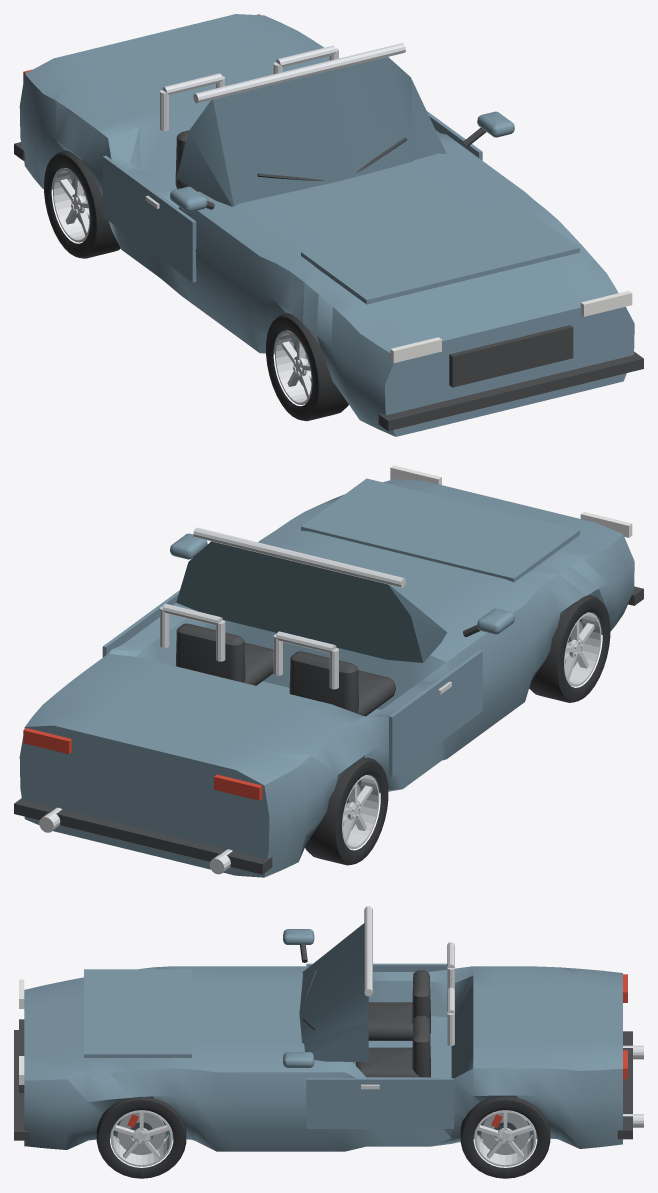
File: type_roadster.glb
3 renders of one model, top to bottom at view 1: azimuth 30°, elevation 25°; view 2: azimuth 150°, elevation 25°; view 3: azimuth 270°, elevation 25°, orthographic. The views are drawn at different scales.
Parts seen in each view (by area): view 1: roadster, bonnet, door-left, wheel-front-left/rubber, wheel-rear-left/rubber, wheel-rear-left/alloy, wheel-front-left/alloy; view 2: roadster, bonnet, door-left (×2), wheel-rear-left/rubber, wheel-front-left/rubber, wheel-front-left/alloy, wheel-rear-left/alloy; view 3: roadster, bonnet, door-left (×2), wheel-rear-right/rubber, wheel-front-right/rubber, wheel-front-right/alloy, wheel-rear-right/alloy, wheel-rear-right/steel, wheel-front-right/steel.
Part boxes in pixels (x1,y1,x2,y2): roadster: (14, 14, 643, 436); bonnet: (301, 200, 579, 304); door-left: (102, 155, 196, 282); wheel-front-left/rubber: (266, 313, 348, 421); wheel-rear-left/rubber: (44, 150, 120, 258); wheel-rear-left/alloy: (53, 168, 90, 242); wheel-front-left/alloy: (275, 330, 312, 404); roadster: (14, 465, 643, 877); bonnet: (301, 478, 579, 582); door-left (×2): (102, 590, 482, 777); wheel-rear-left/rubber: (305, 757, 388, 865); wheel-front-left/rubber: (529, 595, 610, 702); wheel-front-left/alloy: (564, 612, 601, 686); wheel-rear-left/alloy: (342, 775, 379, 849); roadster: (14, 906, 643, 1151); bonnet: (84, 969, 191, 1057); door-left (×2): (306, 963, 453, 1128); wheel-rear-right/rubber: (460, 1096, 550, 1178); wheel-front-right/rubber: (96, 1096, 186, 1178); wheel-front-right/alloy: (110, 1110, 172, 1166); wheel-rear-right/alloy: (474, 1110, 536, 1166); wheel-rear-right/steel: (481, 1112, 529, 1154); wheel-front-right/steel: (117, 1112, 165, 1154).
Bounding box in the file's own units: 2.01 × 1.24 × 4.05.
